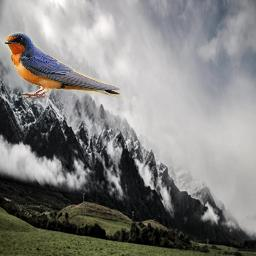Swallow: (1, 30, 121, 103)
